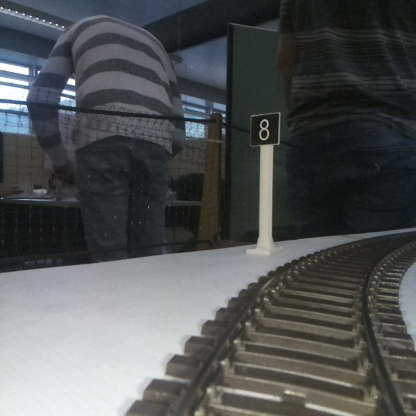black-info-8: (250, 112, 279, 253)
